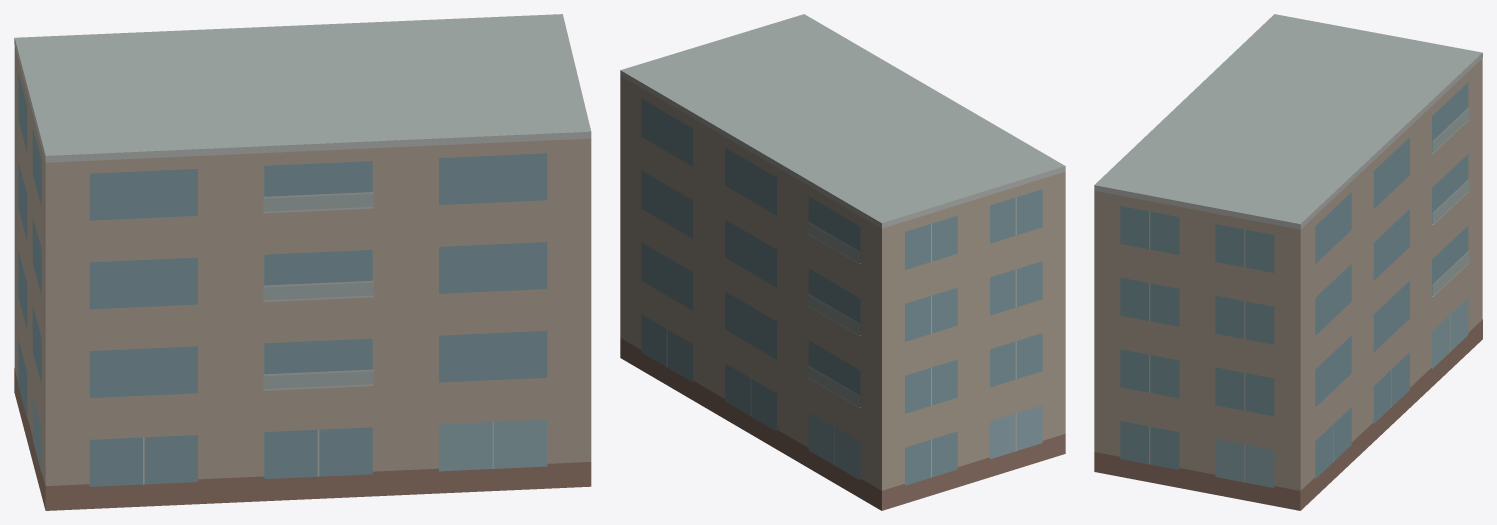
The model's file is survey-upis-32902315.glb.
The picture shows the model from 3 angles, left to right: view 1: azimuth 30°, elevation 25°; view 2: azimuth 150°, elevation 25°; view 3: azimuth 270°, elevation 25°; orthographic projection. The views are drawn at different scales.
Visible parts, largest first — view 1: survey-upis-32902315.tmp; view 2: survey-upis-32902315.tmp; view 3: survey-upis-32902315.tmp.
Part boxes in pixels (x1,y1,x2,y2): survey-upis-32902315.tmp: (14, 14, 591, 510); survey-upis-32902315.tmp: (620, 14, 1065, 510); survey-upis-32902315.tmp: (1094, 14, 1482, 510).
Bounding box in the file's own units: 19.98 × 12.7 × 15.61.
